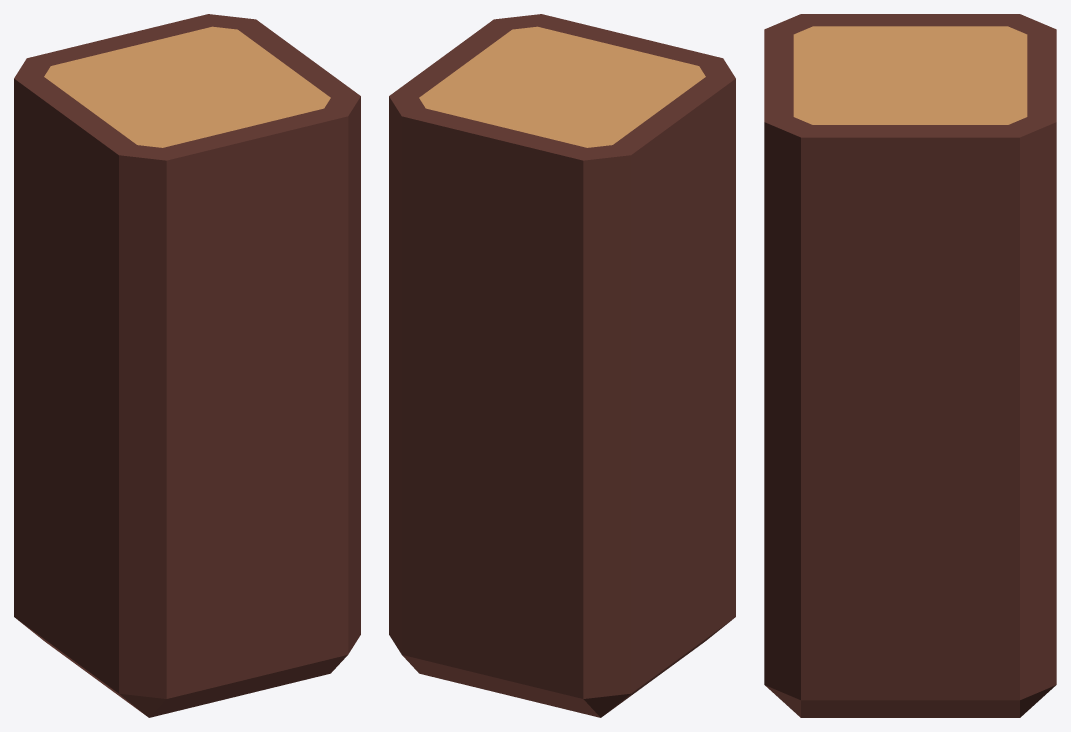
File: Stump 1.fbx
3 renders of one model, left to right at view 1: azimuth 30°, elevation 25°; view 2: azimuth 150°, elevation 25°; view 3: azimuth 270°, elevation 25°, orthographic. The views are drawn at different scales.
Visible parts, largest first — view 1: Stump_1; view 2: Stump_1; view 3: Stump_1.
Part boxes in pixels (<box>): Stump_1: <box>14,14,360,717</box>; Stump_1: <box>389,14,735,717</box>; Stump_1: <box>764,14,1056,717</box>.
Bounding box in the file's own units: 0.2 × 0.45 × 0.2.
